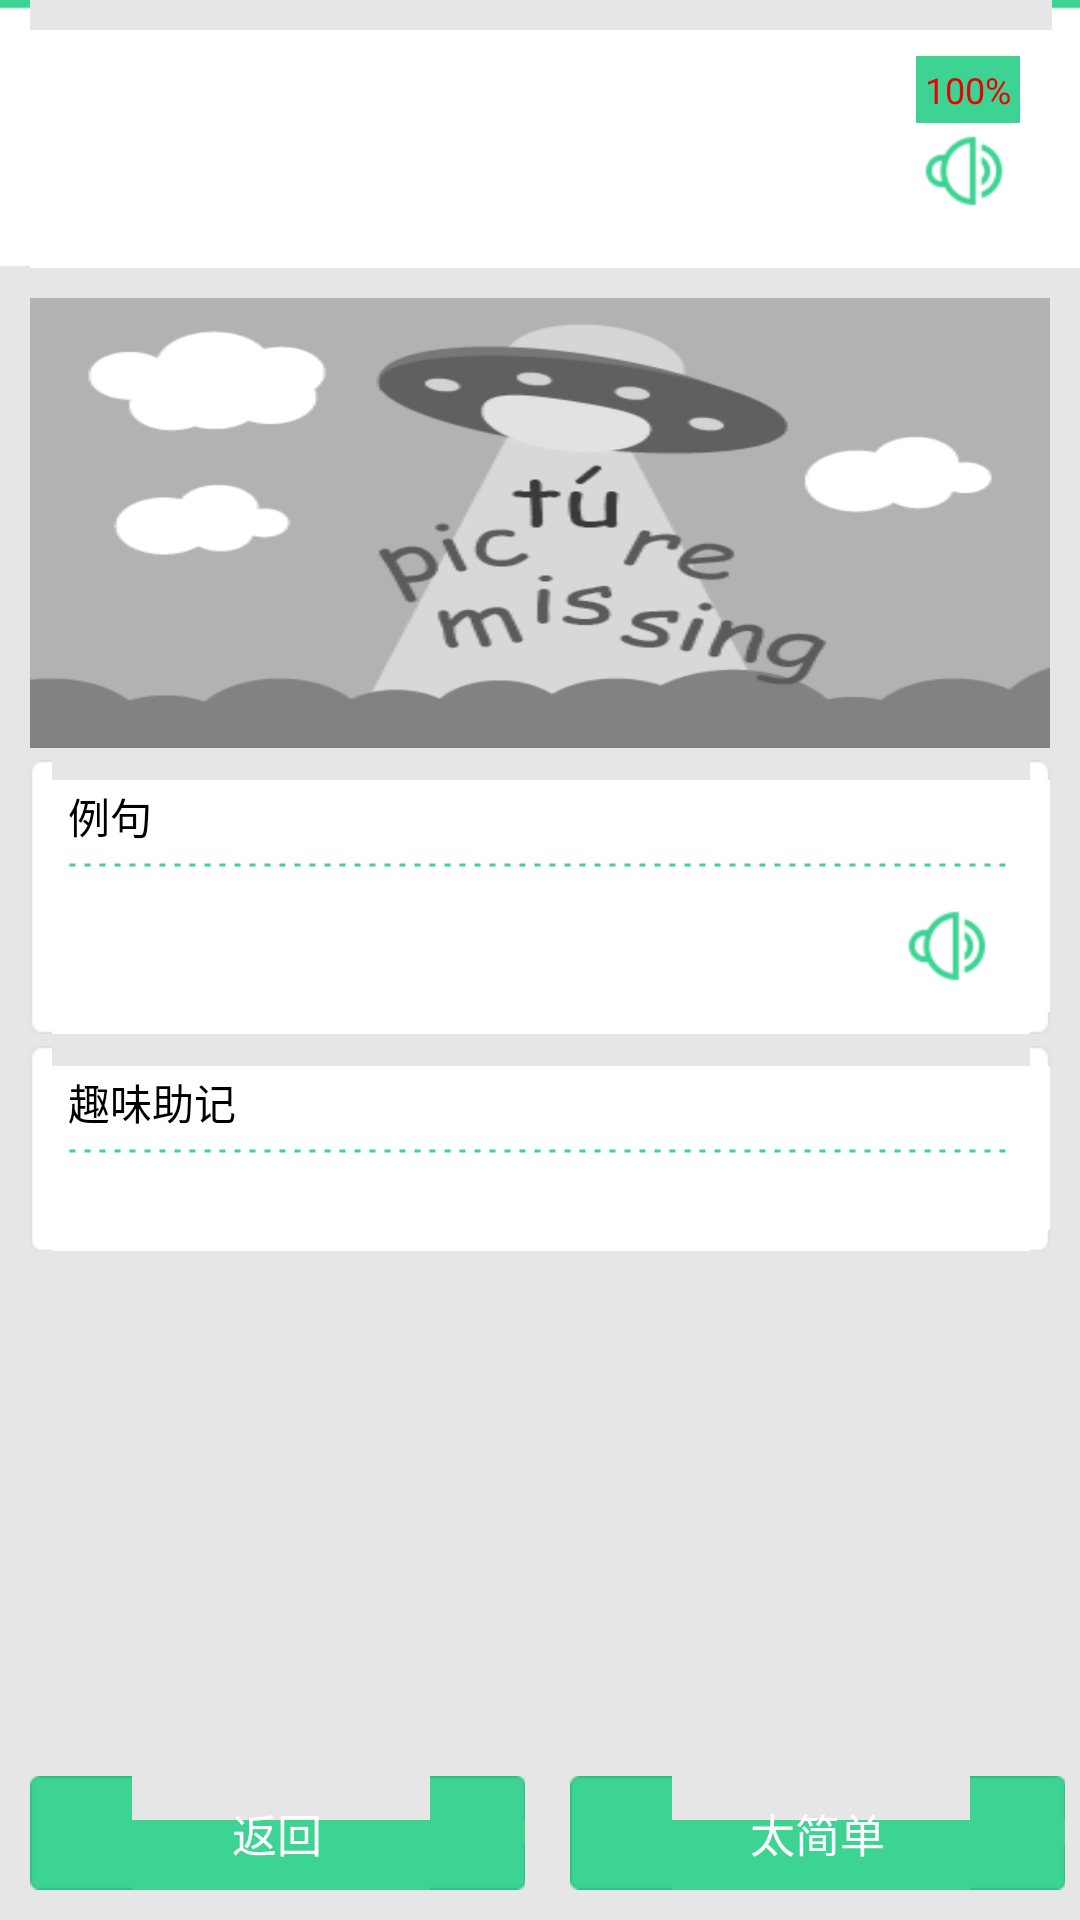

Where icons sit on this 1080*1920 app screen, as (x1, y1, x2, y2):
page lock screen speak: (925, 136, 1003, 206), (908, 911, 986, 981)
